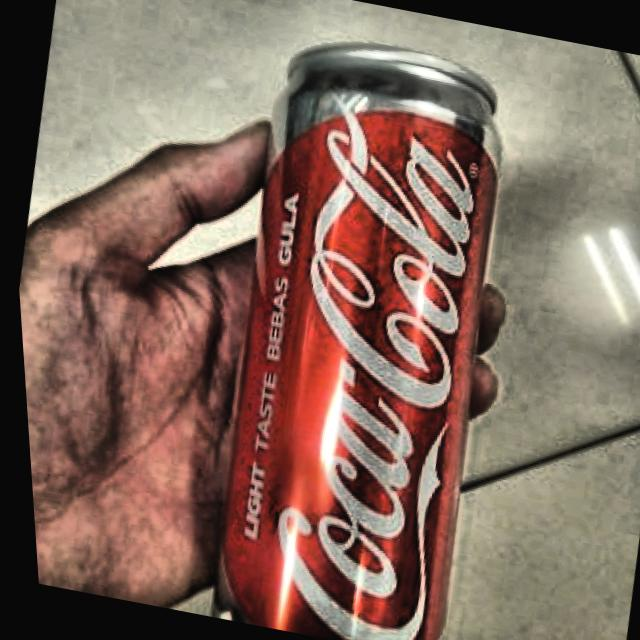Cans: (134, 0, 561, 640)
